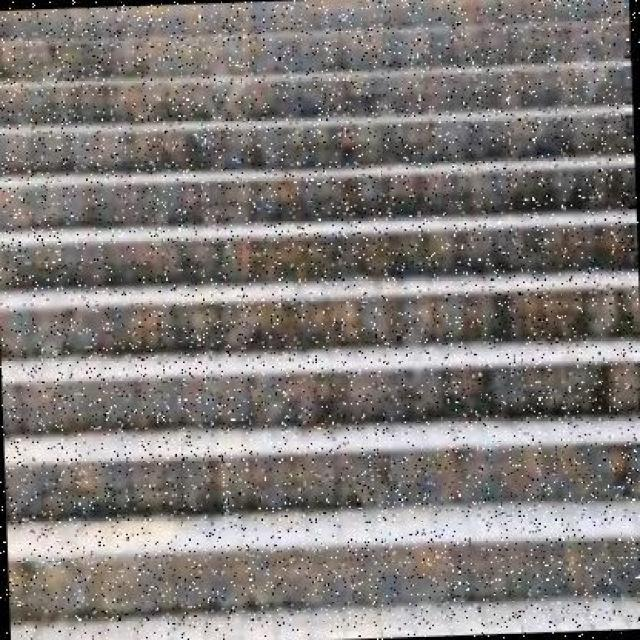Stairs: (35, 37, 611, 611)
